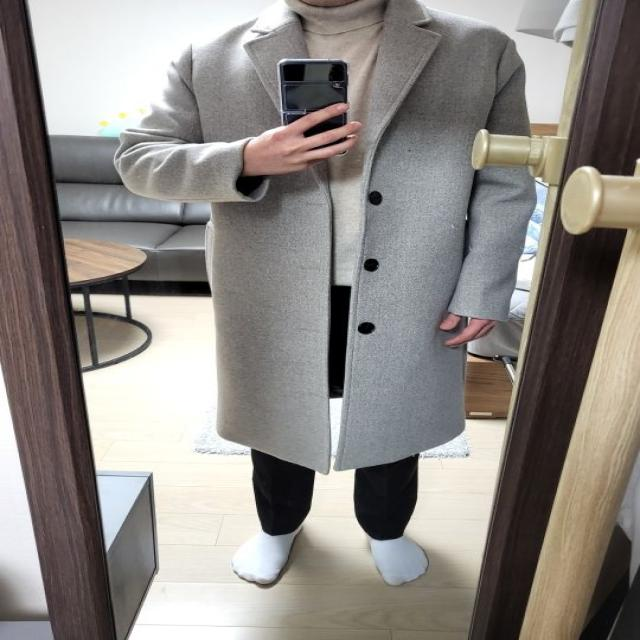coat: (113, 0, 539, 473)
slacks: (248, 280, 417, 541)
